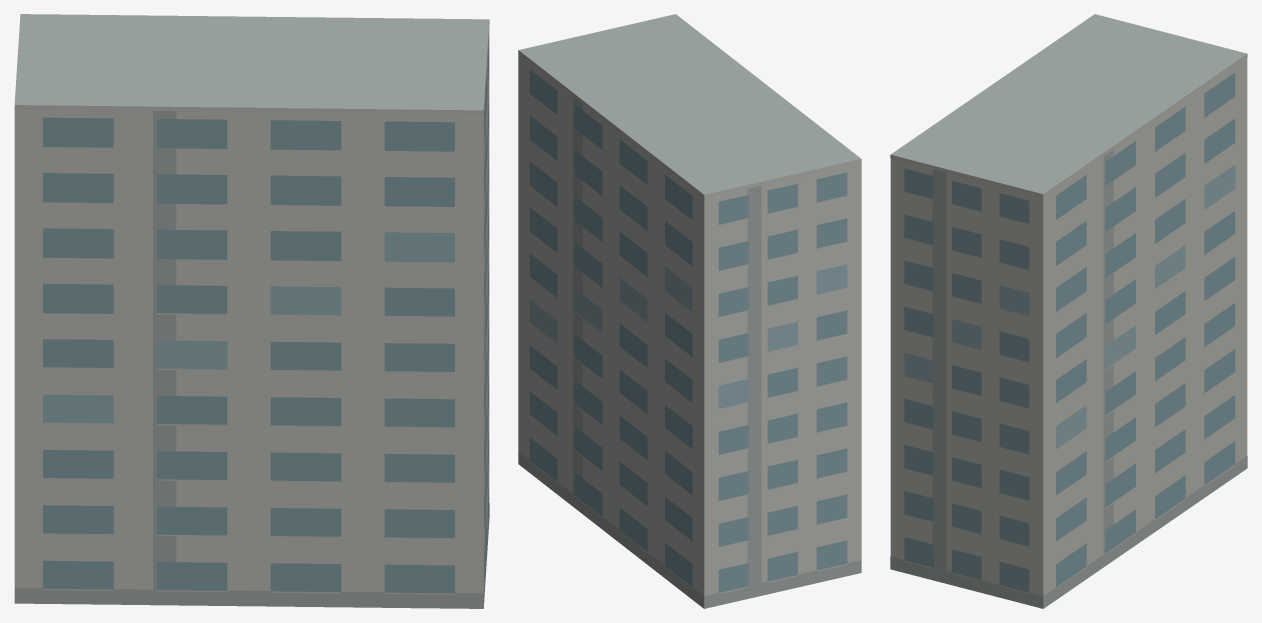
Rendered from residential-3a704d86-6586-42e4-bc23-052a0dd24078.glb.
3 views of the same model, side by side, from view 1: azimuth 30°, elevation 25°; view 2: azimuth 150°, elevation 25°; view 3: azimuth 270°, elevation 25° (orthographic). The views are drawn at different scales.
Parts seen in each view (by area): view 1: residential-3a704d86-6586-42e4-bc23-052a0dd24078.tmp; view 2: residential-3a704d86-6586-42e4-bc23-052a0dd24078.tmp; view 3: residential-3a704d86-6586-42e4-bc23-052a0dd24078.tmp.
Part boxes in pixels (bbox=[...]): residential-3a704d86-6586-42e4-bc23-052a0dd24078.tmp: bbox=[14, 14, 489, 608]; residential-3a704d86-6586-42e4-bc23-052a0dd24078.tmp: bbox=[518, 14, 861, 608]; residential-3a704d86-6586-42e4-bc23-052a0dd24078.tmp: bbox=[890, 14, 1247, 608].
Size of the model in its own units: 26.1 by 28 by 21.85.
